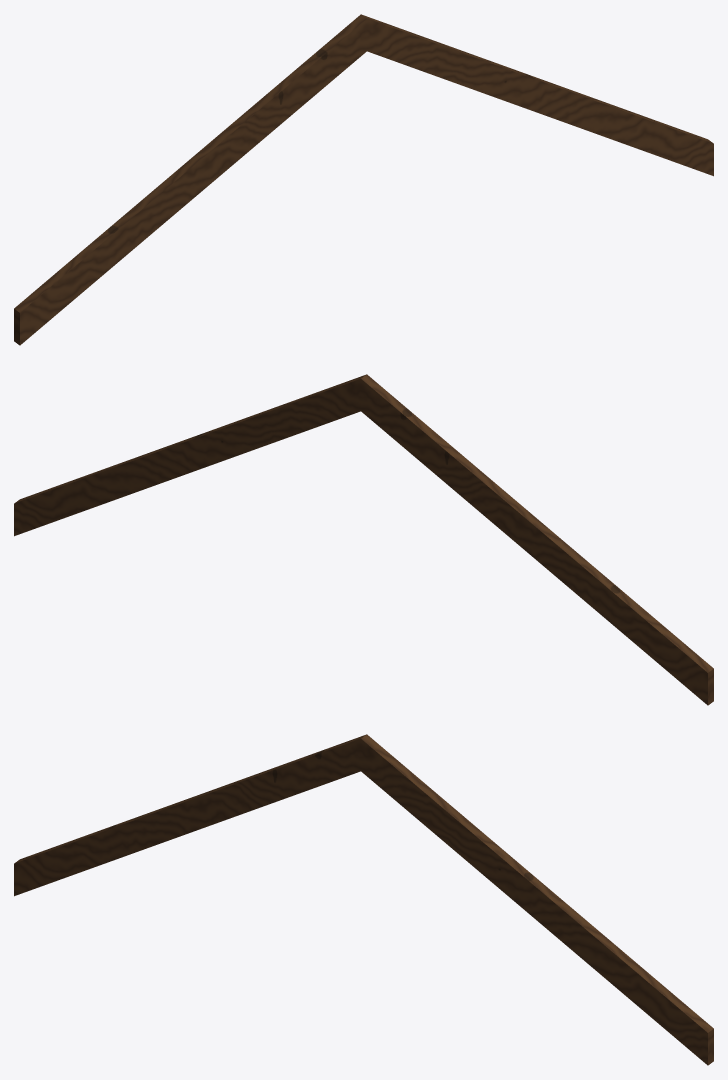
The model's file is gable_cap_4m.glb.
The picture shows the model from 3 angles, top to bottom: view 1: azimuth 30°, elevation 25°; view 2: azimuth 150°, elevation 25°; view 3: azimuth 330°, elevation 25°; orthographic projection.
Visible parts, largest first — view 1: gable_cap_4m; view 2: gable_cap_4m; view 3: gable_cap_4m.
Boxes of the visible parts, <box> form: gable_cap_4m: <box>14,14,713,345</box>; gable_cap_4m: <box>14,374,713,705</box>; gable_cap_4m: <box>14,734,713,1065</box>.
Bounding box in the file's own units: 4 × 1.33 × 0.06.
Materials: 1 (1 with a texture image).
